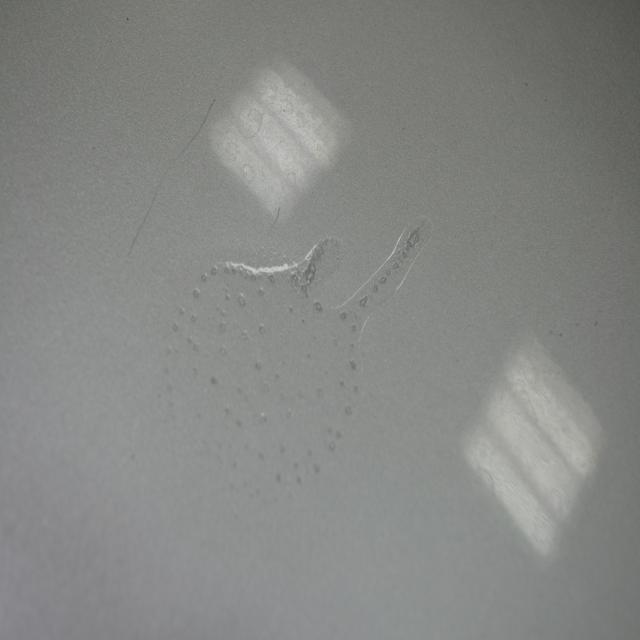runs: (160, 215, 435, 531)
scratch: (118, 88, 221, 262)
water marks: (274, 89, 312, 153), (263, 153, 302, 197), (226, 150, 258, 193), (236, 99, 265, 142)
